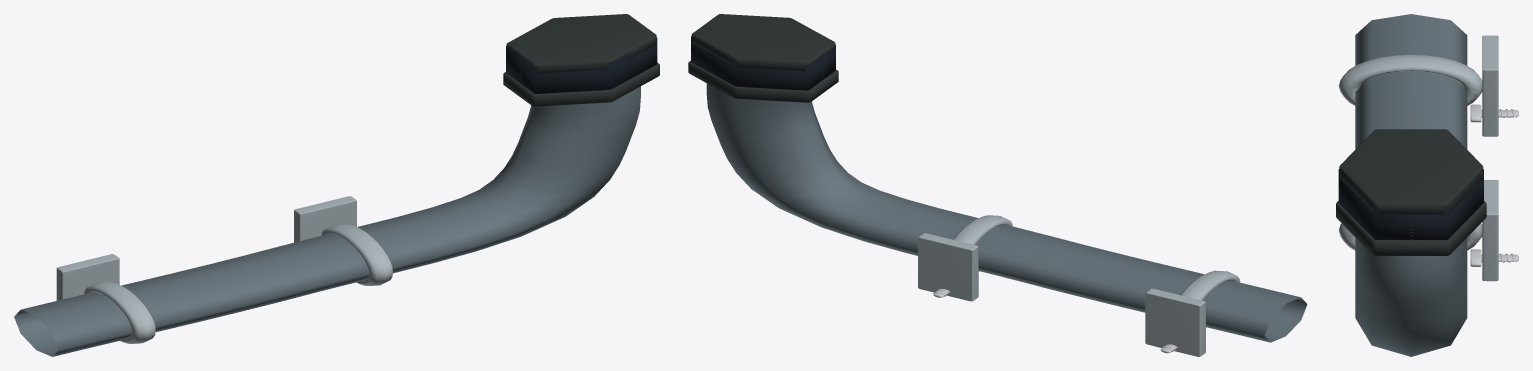
Rendered from conduit_conduit-gland.glb.
3 views of the same model, side by side, from view 1: azimuth 30°, elevation 25°; view 2: azimuth 150°, elevation 25°; view 3: azimuth 270°, elevation 25° (orthographic). The views are drawn at different scales.
Parts seen in each view (by area): view 1: part:body, detail:cable-management-construction · Detail moulded engine, part:mounting · Original 2a8198d3, part:mounting.001; view 2: part:body, part:mounting · Original 2a8198d3, detail:cable-management-construction · Detail moulded engine, part:mounting.001; view 3: part:body, detail:cable-management-construction · Detail moulded engine, part:mounting · Original 2a8198d3, part:mounting.001, detail:cable-management-fixing · Detail zinc plated fixing.
Part boxes in pixels (box(x1,y1,x2,y2)): part:body: box(14, 86, 640, 356); detail:cable-management-construction · Detail moulded engine: box(503, 14, 659, 106); part:mounting · Original 2a8198d3: box(56, 196, 392, 343); part:mounting.001: box(506, 37, 657, 93); part:body: box(706, 83, 1307, 342); part:mounting · Original 2a8198d3: box(918, 215, 1240, 356); detail:cable-management-construction · Detail moulded engine: box(688, 14, 838, 102); part:mounting.001: box(691, 36, 835, 90); part:body: box(1355, 14, 1467, 356); detail:cable-management-construction · Detail moulded engine: box(1336, 129, 1486, 255); part:mounting · Original 2a8198d3: box(1338, 35, 1498, 281); part:mounting.001: box(1338, 169, 1483, 239); detail:cable-management-fixing · Detail zinc plated fixing: box(1470, 104, 1518, 266).
Bounding box in the file's own units: 1.1 × 0.3241 × 0.2281.
